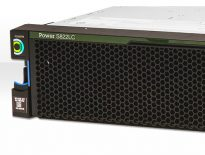ibm-server: (7, 19, 202, 135)
